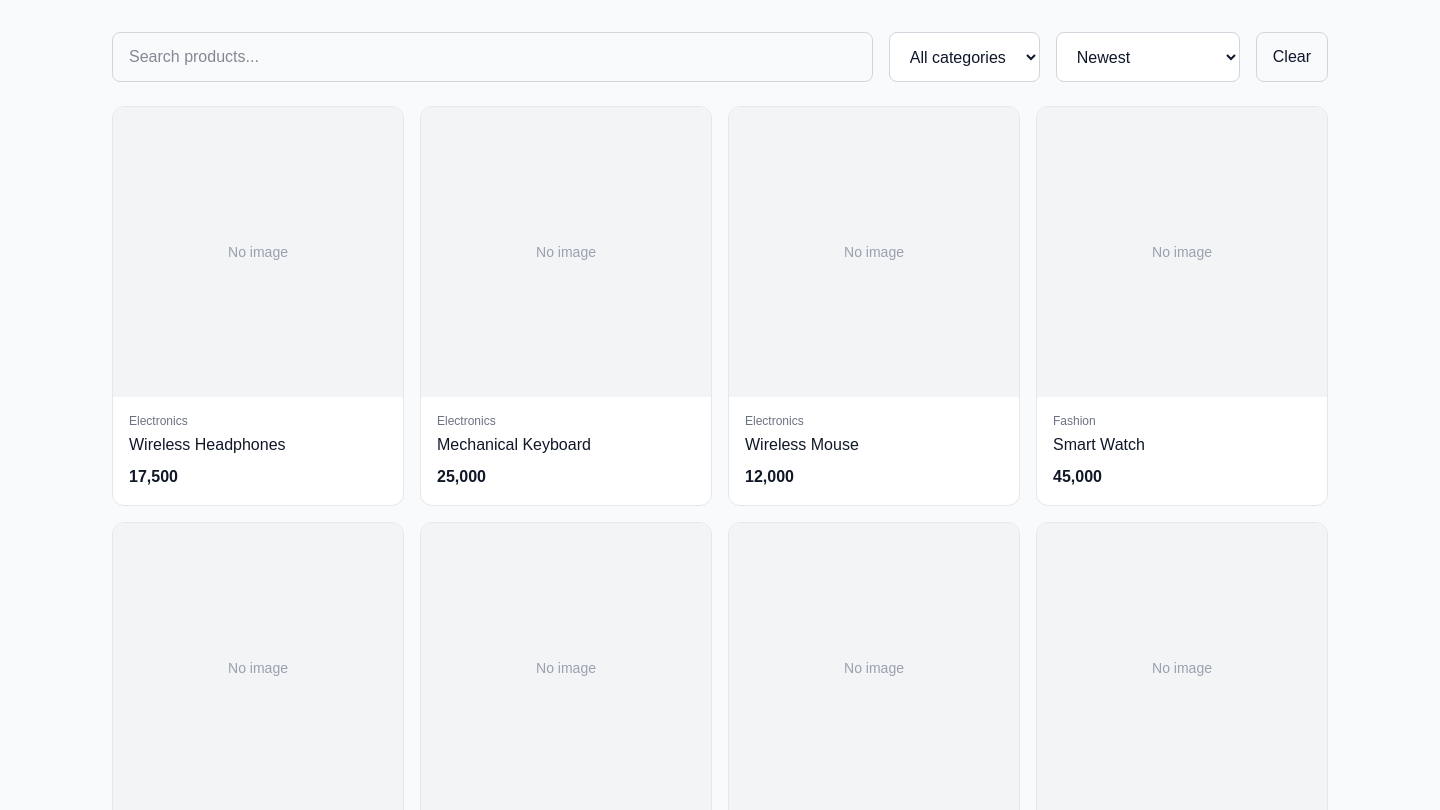
Test case: ProductList › clears the filters
The width and height of the screenshot is (1440, 810).
Expected: the heading "Wireless Headphones" is shown, [129, 436, 286, 453]
Type "headphones" into the search field labelled "Search products". click: (492, 57)
box: [112, 32, 873, 82]
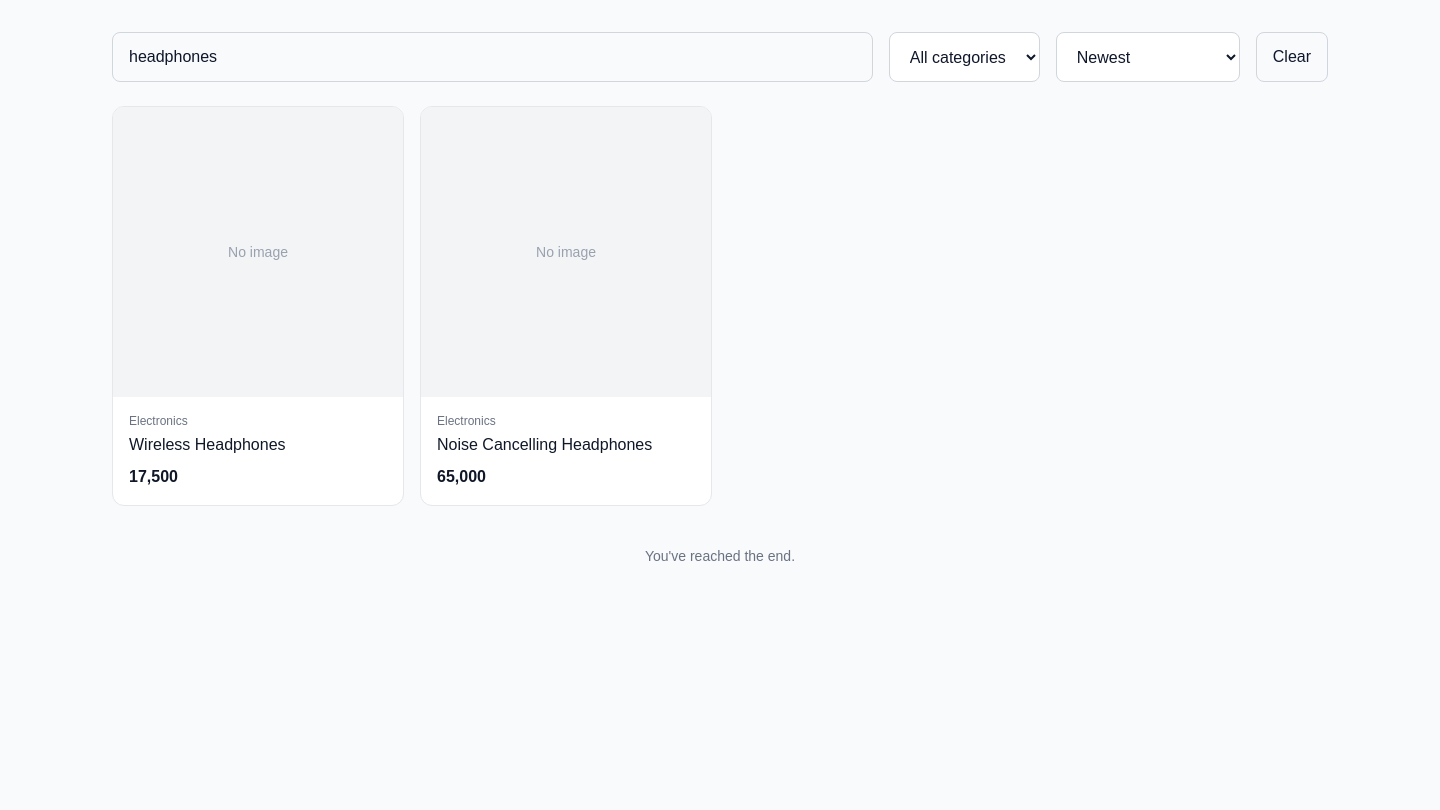
Select "Price: High to Low" in the dropdown named "Sort products". click: (1148, 57)
box: [1056, 32, 1240, 82]
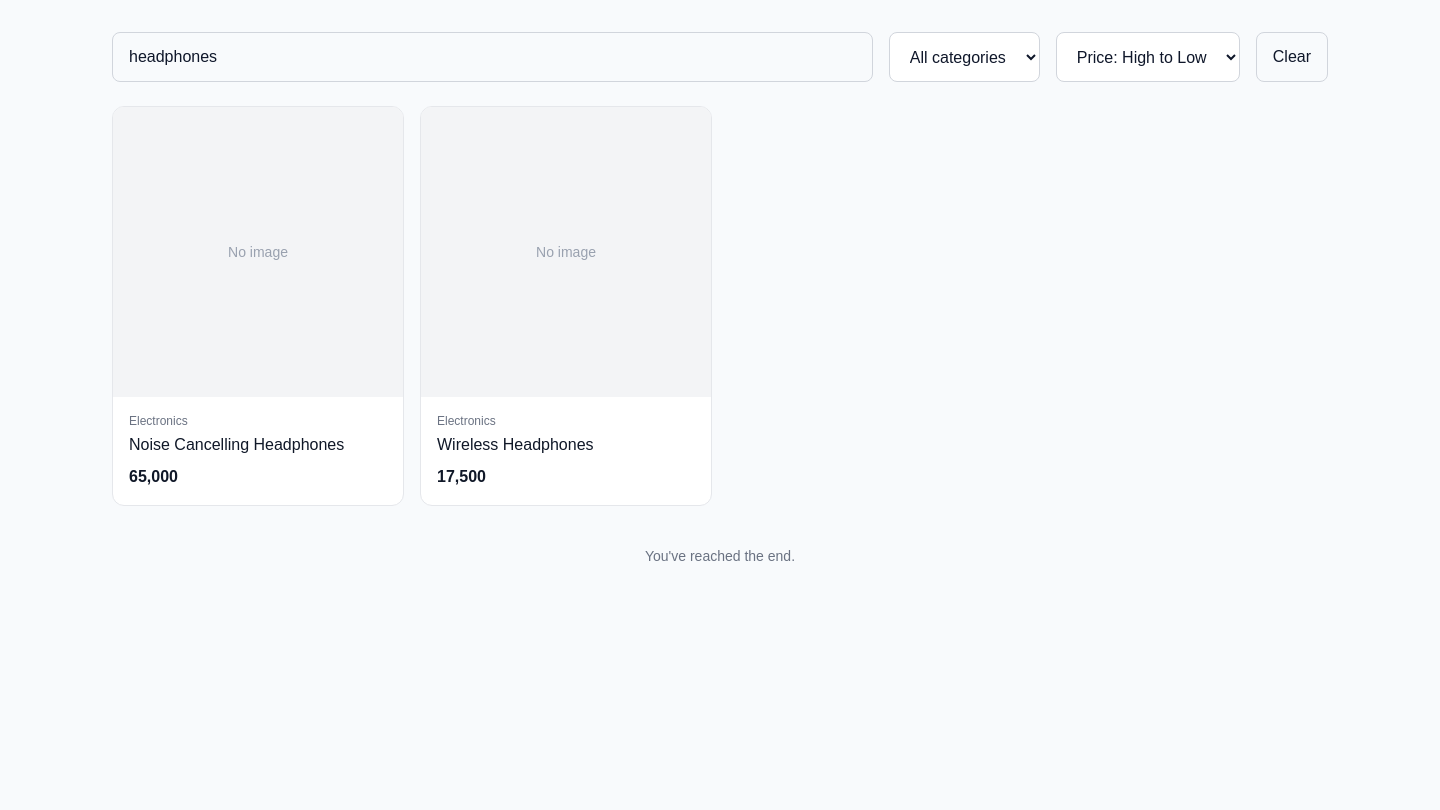
Click the button "Clear". click: (1292, 57)
box: [1256, 32, 1328, 82]
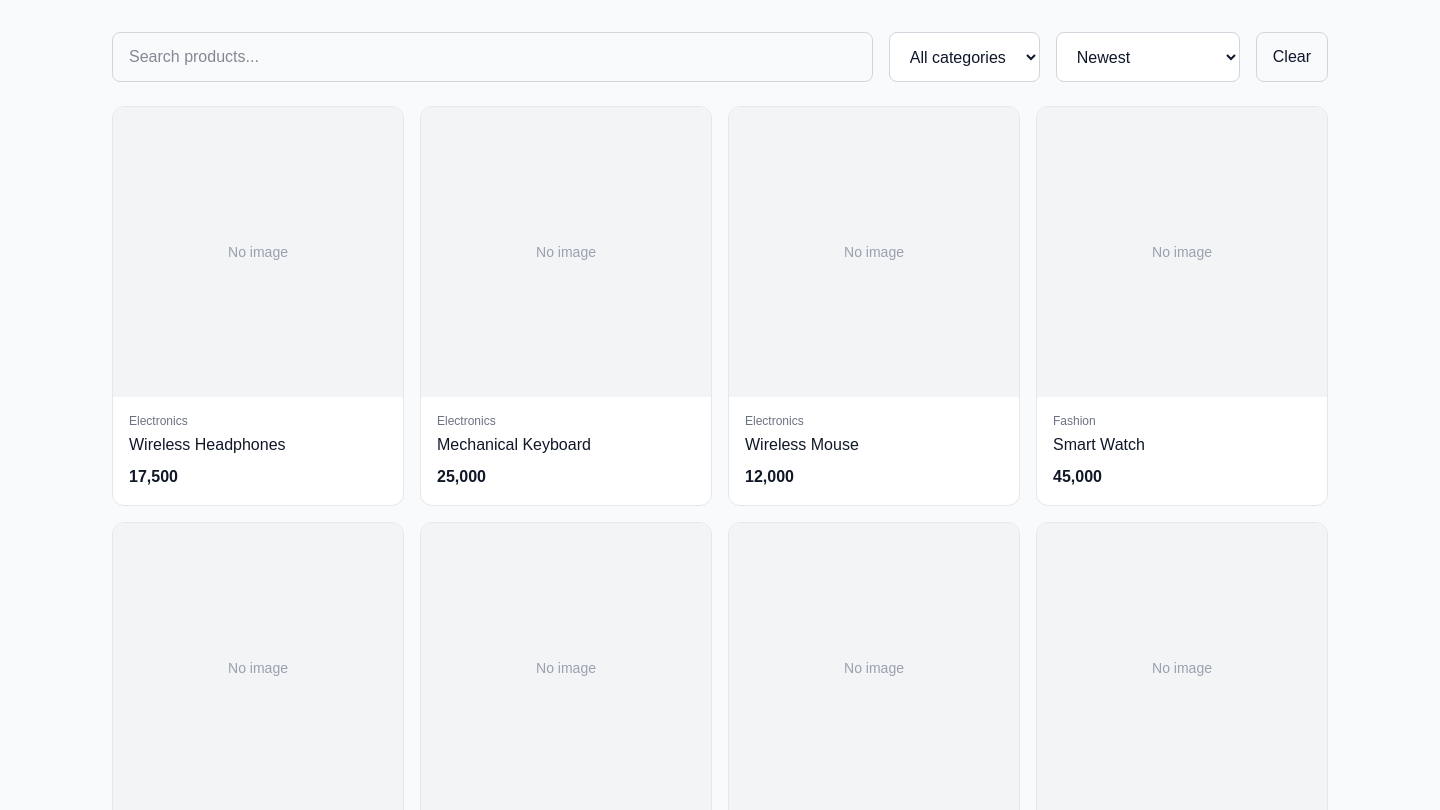
Expected: the dropdown named "Filter by category" shows "All categories", [889, 32, 1040, 82]
Expected: the search field labelled "Search products" is empty, [112, 32, 873, 82]
